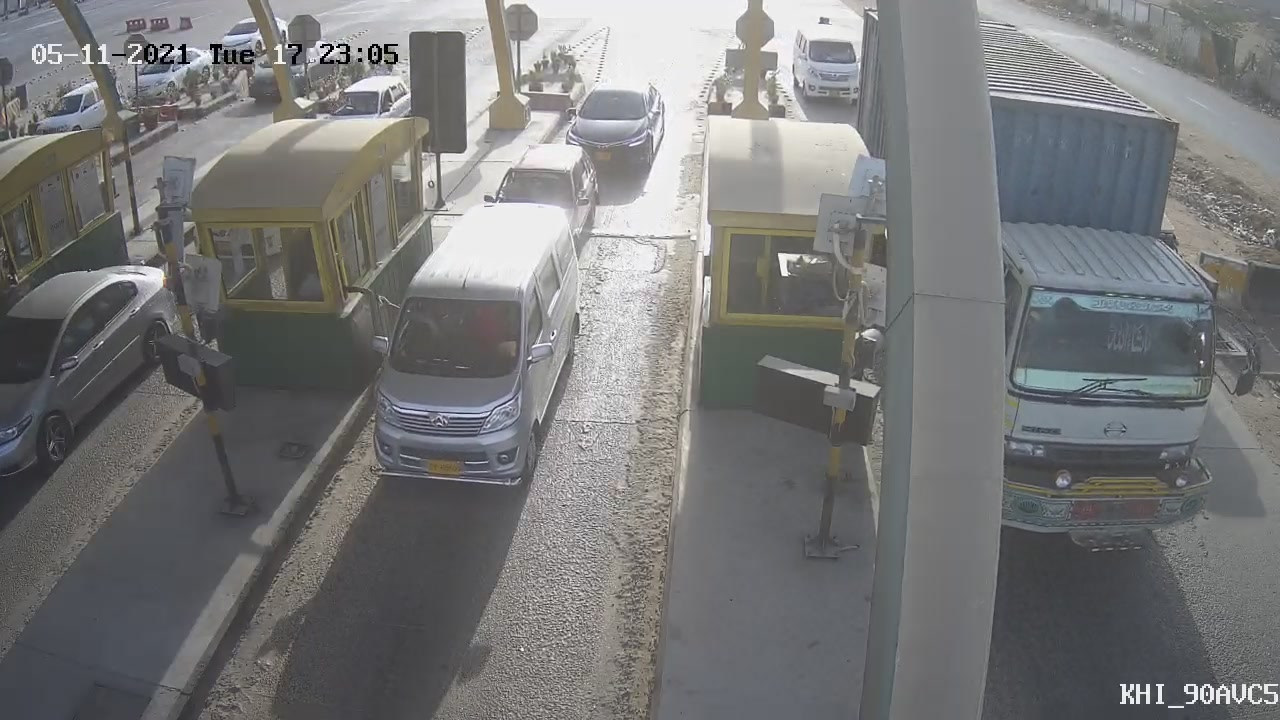F1: (371, 200, 592, 499), (551, 68, 679, 182)
